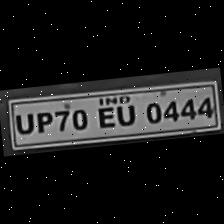0: (66, 104, 90, 131), (140, 98, 162, 126)
4: (194, 92, 216, 120), (174, 94, 196, 121), (158, 96, 180, 122)
7: (50, 106, 70, 134)
E: (93, 100, 117, 129)
P: (31, 108, 54, 135)
U: (113, 98, 138, 127), (10, 108, 35, 136)
